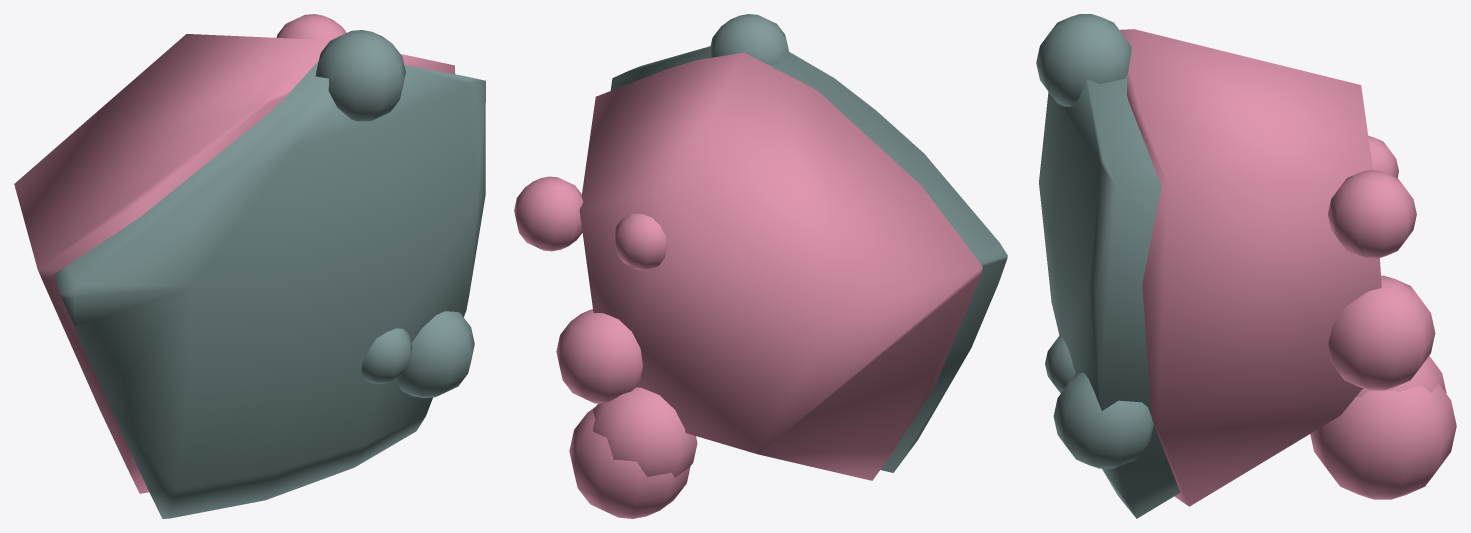
Rendered from chunk25.glb.
The picture shows the model from 3 angles, left to right: view 1: azimuth 30°, elevation 25°; view 2: azimuth 150°, elevation 25°; view 3: azimuth 270°, elevation 25°; orthographic projection. The views are drawn at different scales.
Visible parts, largest first — view 1: skin, flesh; view 2: flesh, skin; view 3: flesh, skin.
Part boxes in pixels (bbox=[...]): skin: bbox=[54, 30, 485, 518]; flesh: bbox=[14, 14, 455, 493]; flesh: bbox=[514, 52, 982, 518]; skin: bbox=[610, 14, 1007, 472]; flesh: bbox=[1120, 29, 1456, 506]; skin: bbox=[1036, 14, 1180, 518].
Size of the model in its own units: 0.7457 by 0.7445 by 0.5902.
